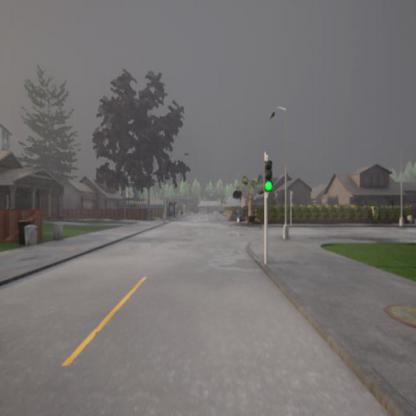traffic_light_green: (265, 160, 273, 192)
